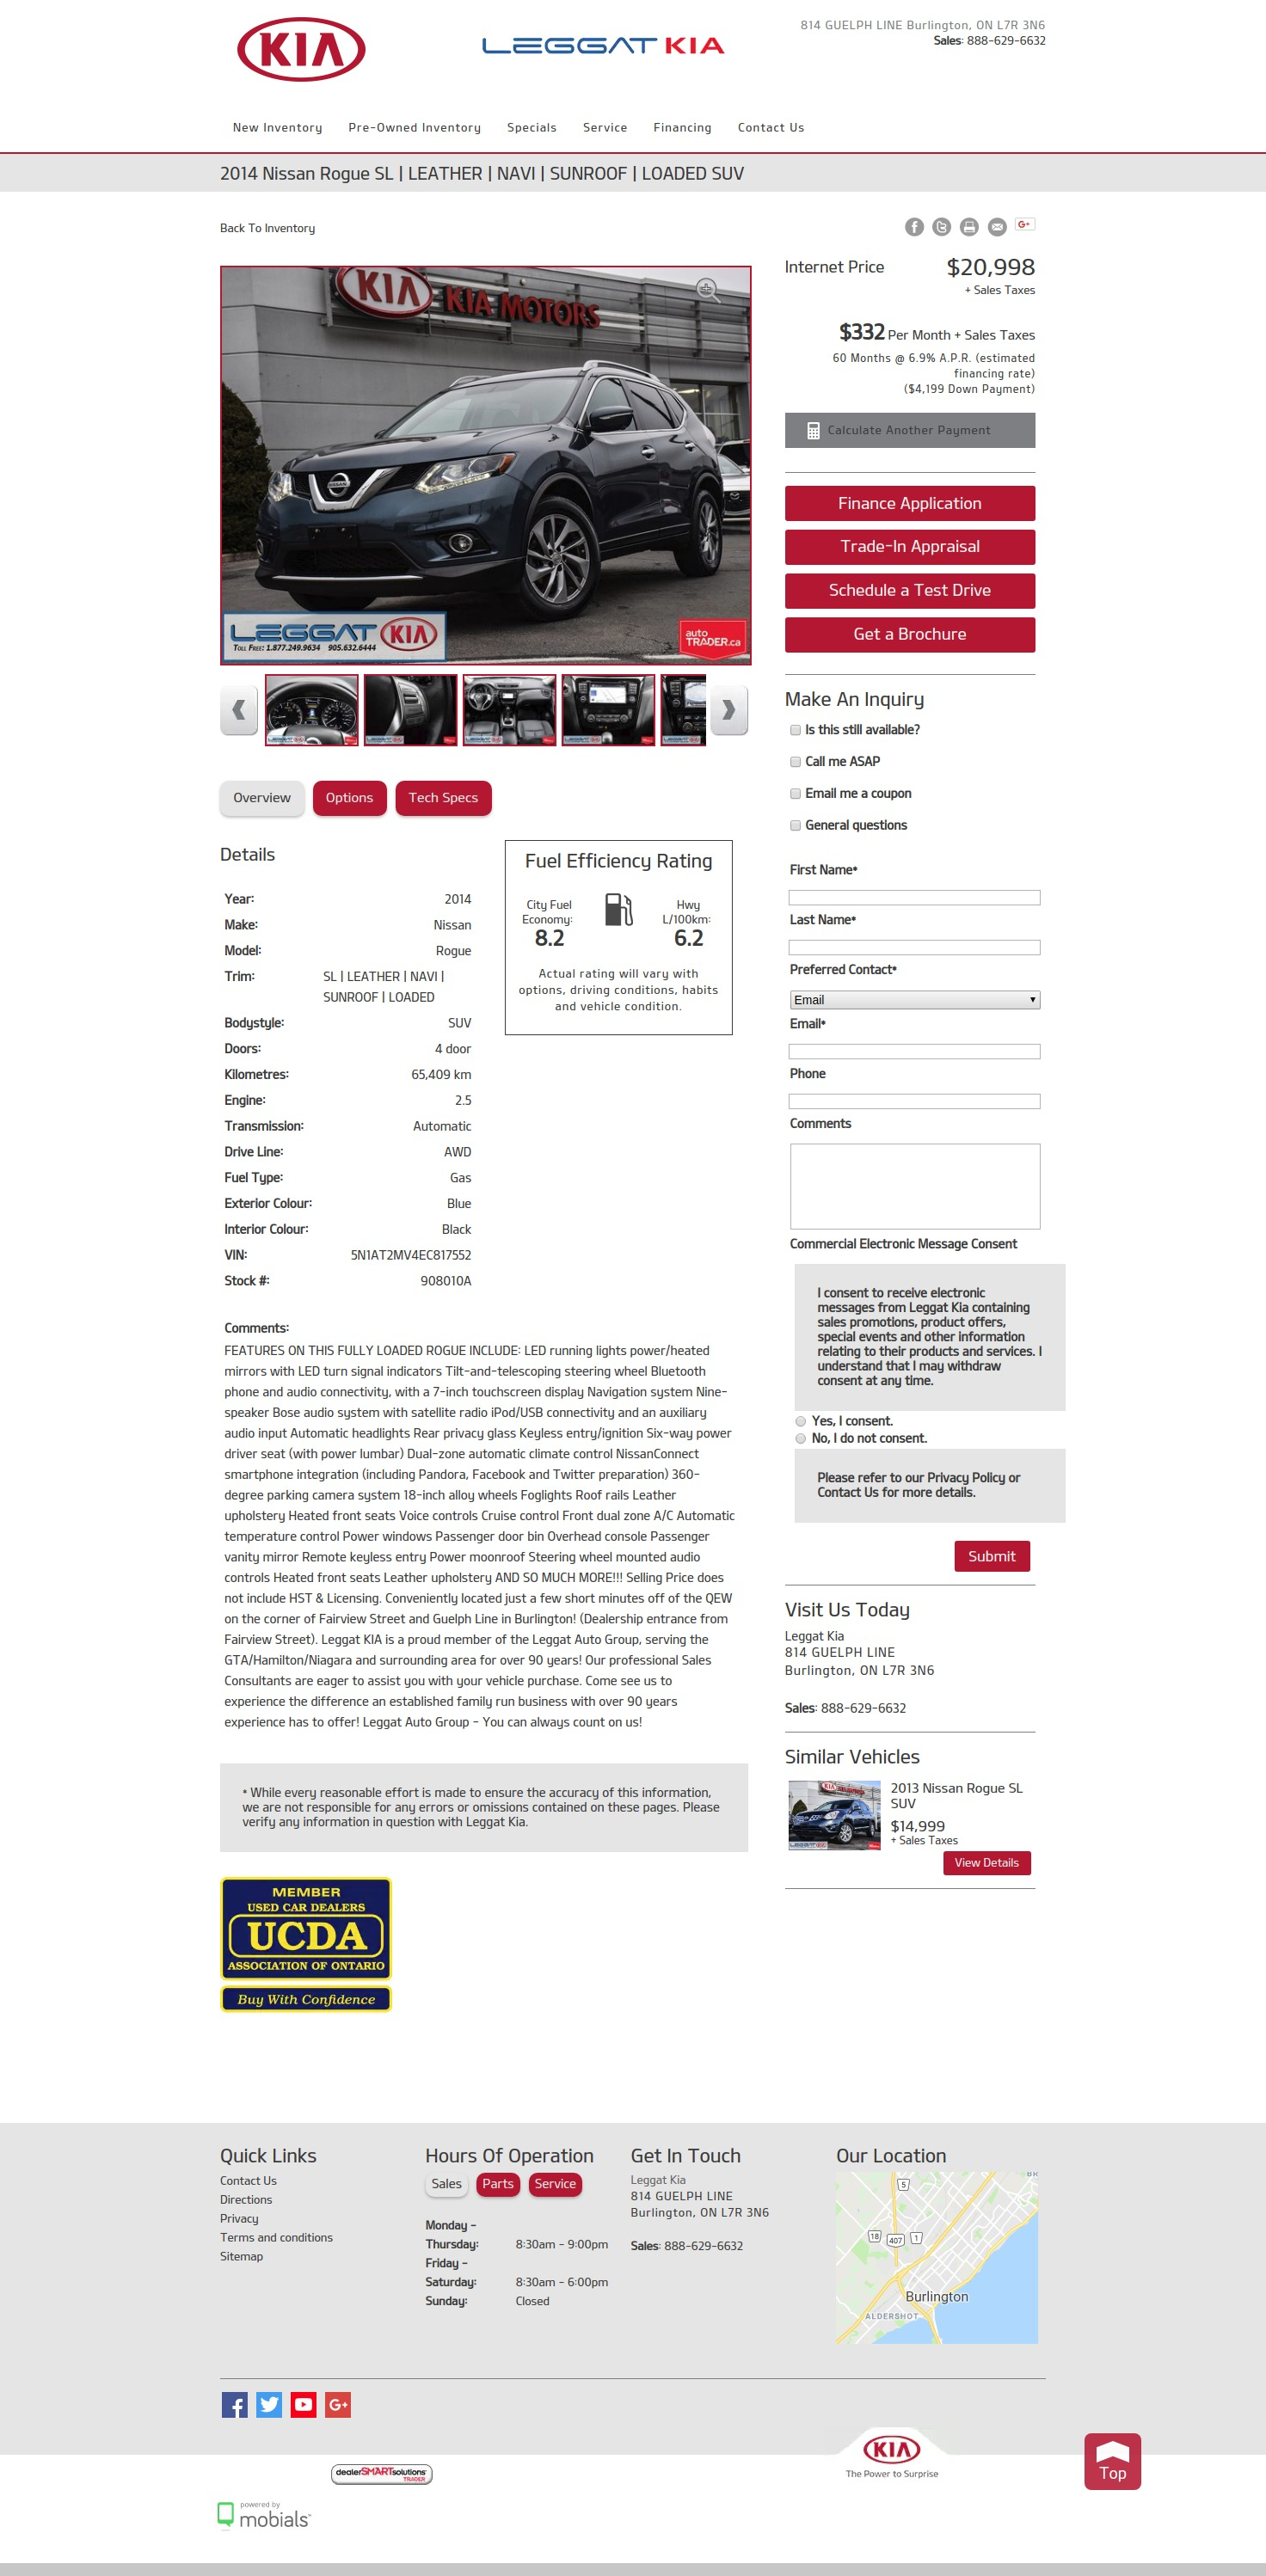car: (722, 698, 737, 723)
